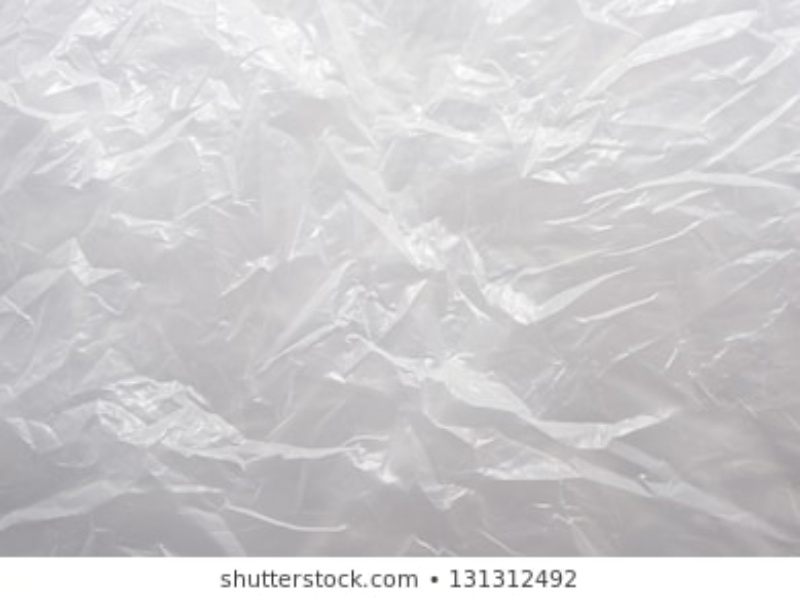plastic-bag: (2, 2, 800, 556)
